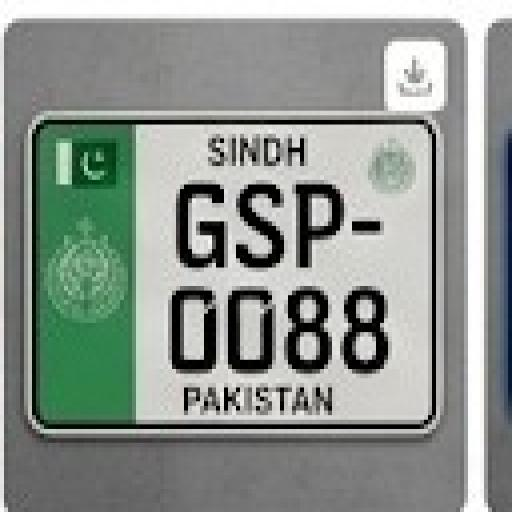0: (167, 280, 218, 378), (226, 284, 272, 374)
8: (282, 282, 336, 376), (342, 284, 394, 374)
G: (172, 181, 232, 274)
P: (288, 181, 341, 268)
S: (238, 190, 282, 270)
